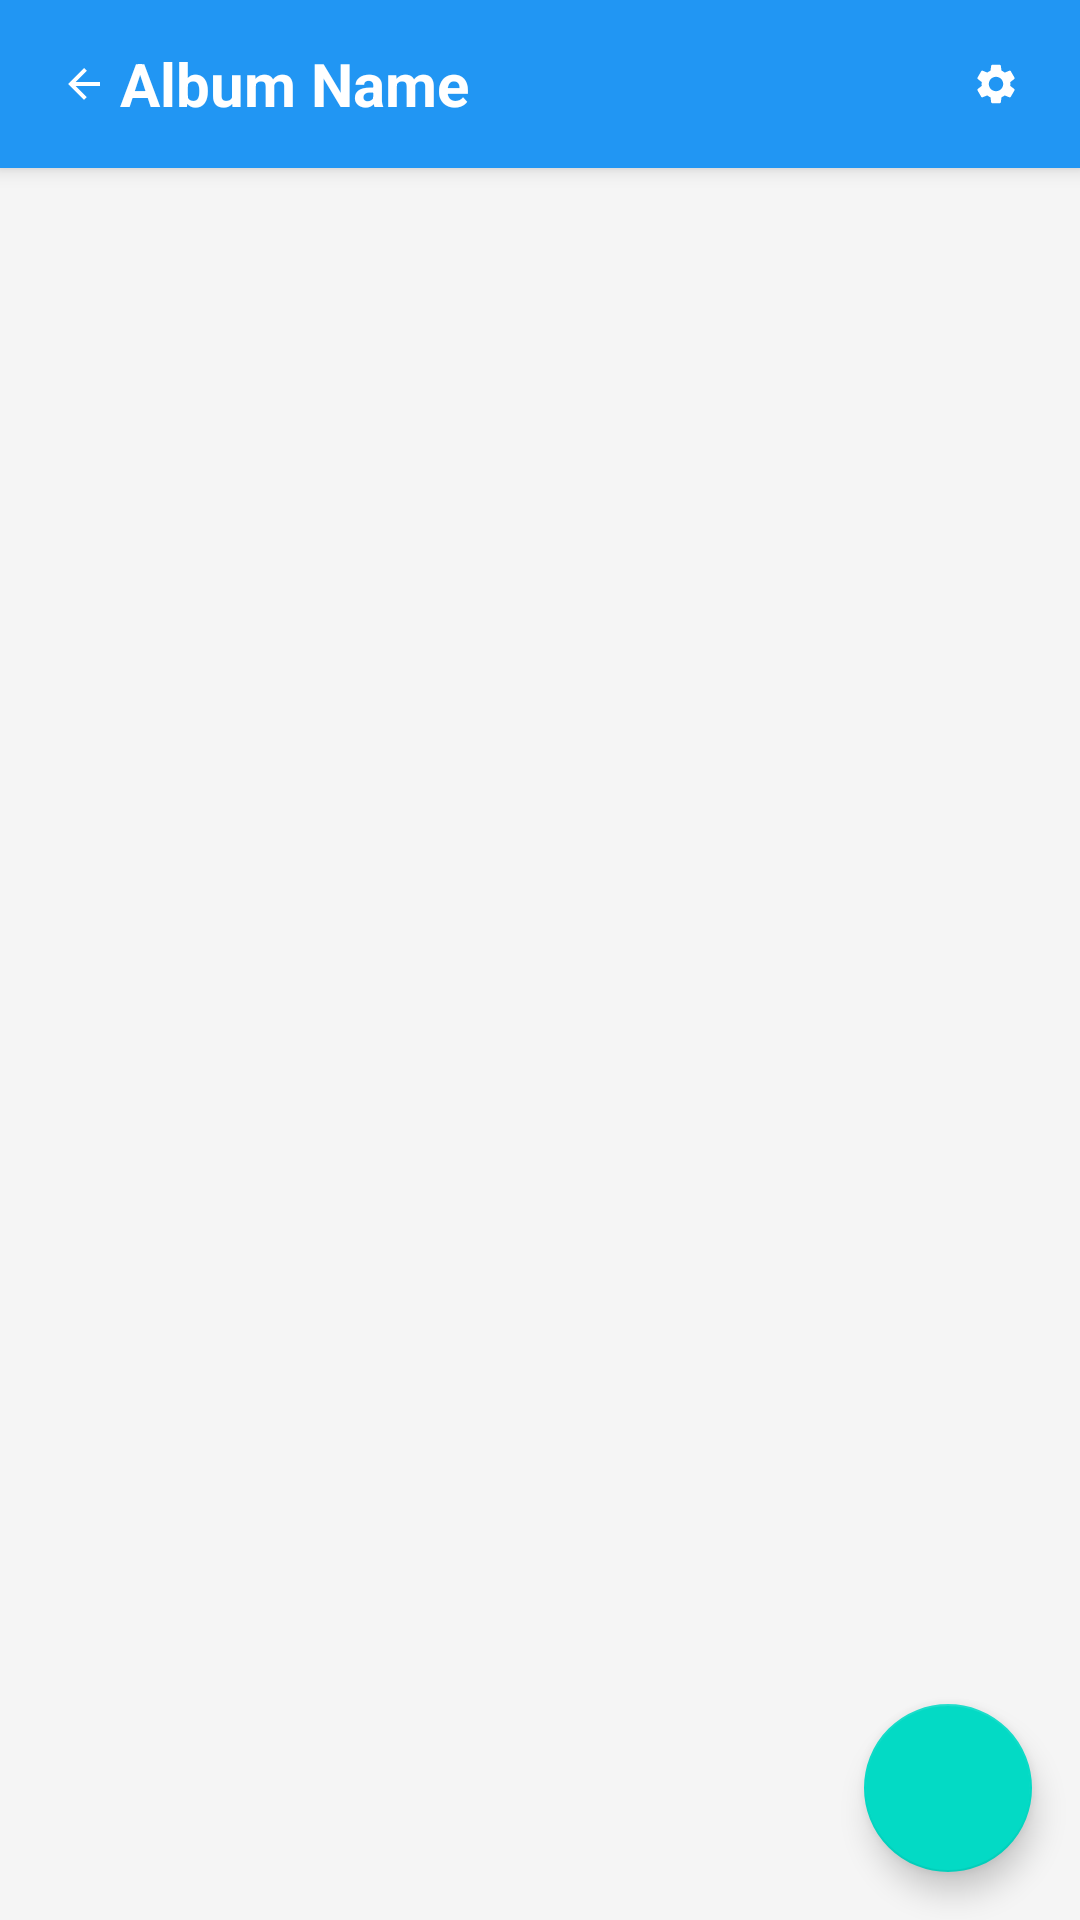

Icon click points for this 1080px×1920px phone screenshot, format (x=x, y=y):
Back: (x=84, y=84)
Settings: (x=996, y=84)
